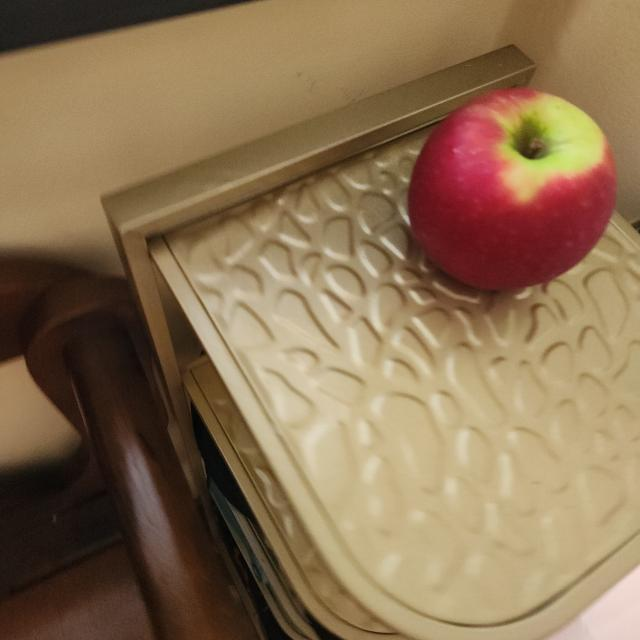apple: (400, 77, 621, 302)
